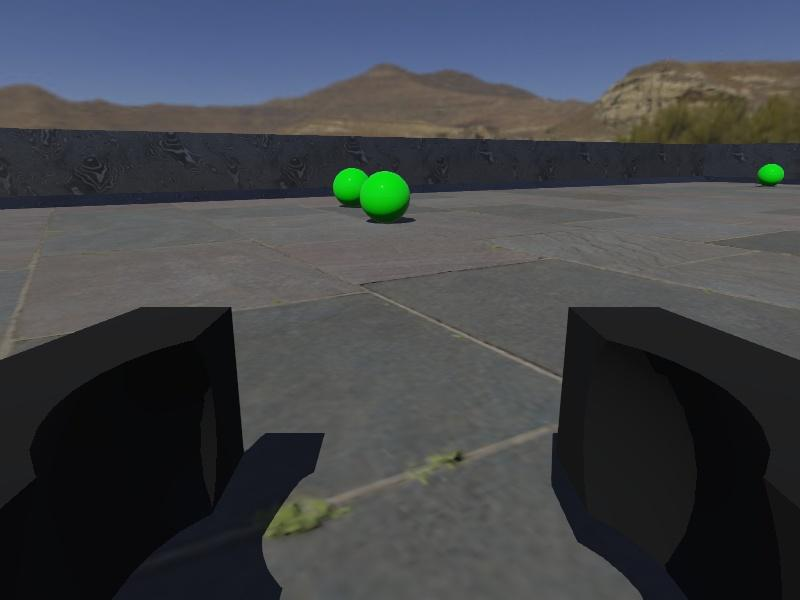green ball: (359, 170, 411, 225), (758, 162, 785, 186)
